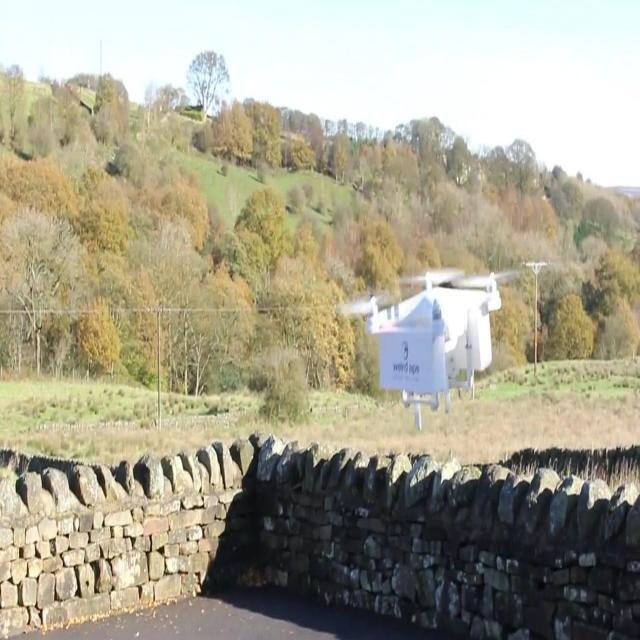UAV: (335, 270, 514, 430)
